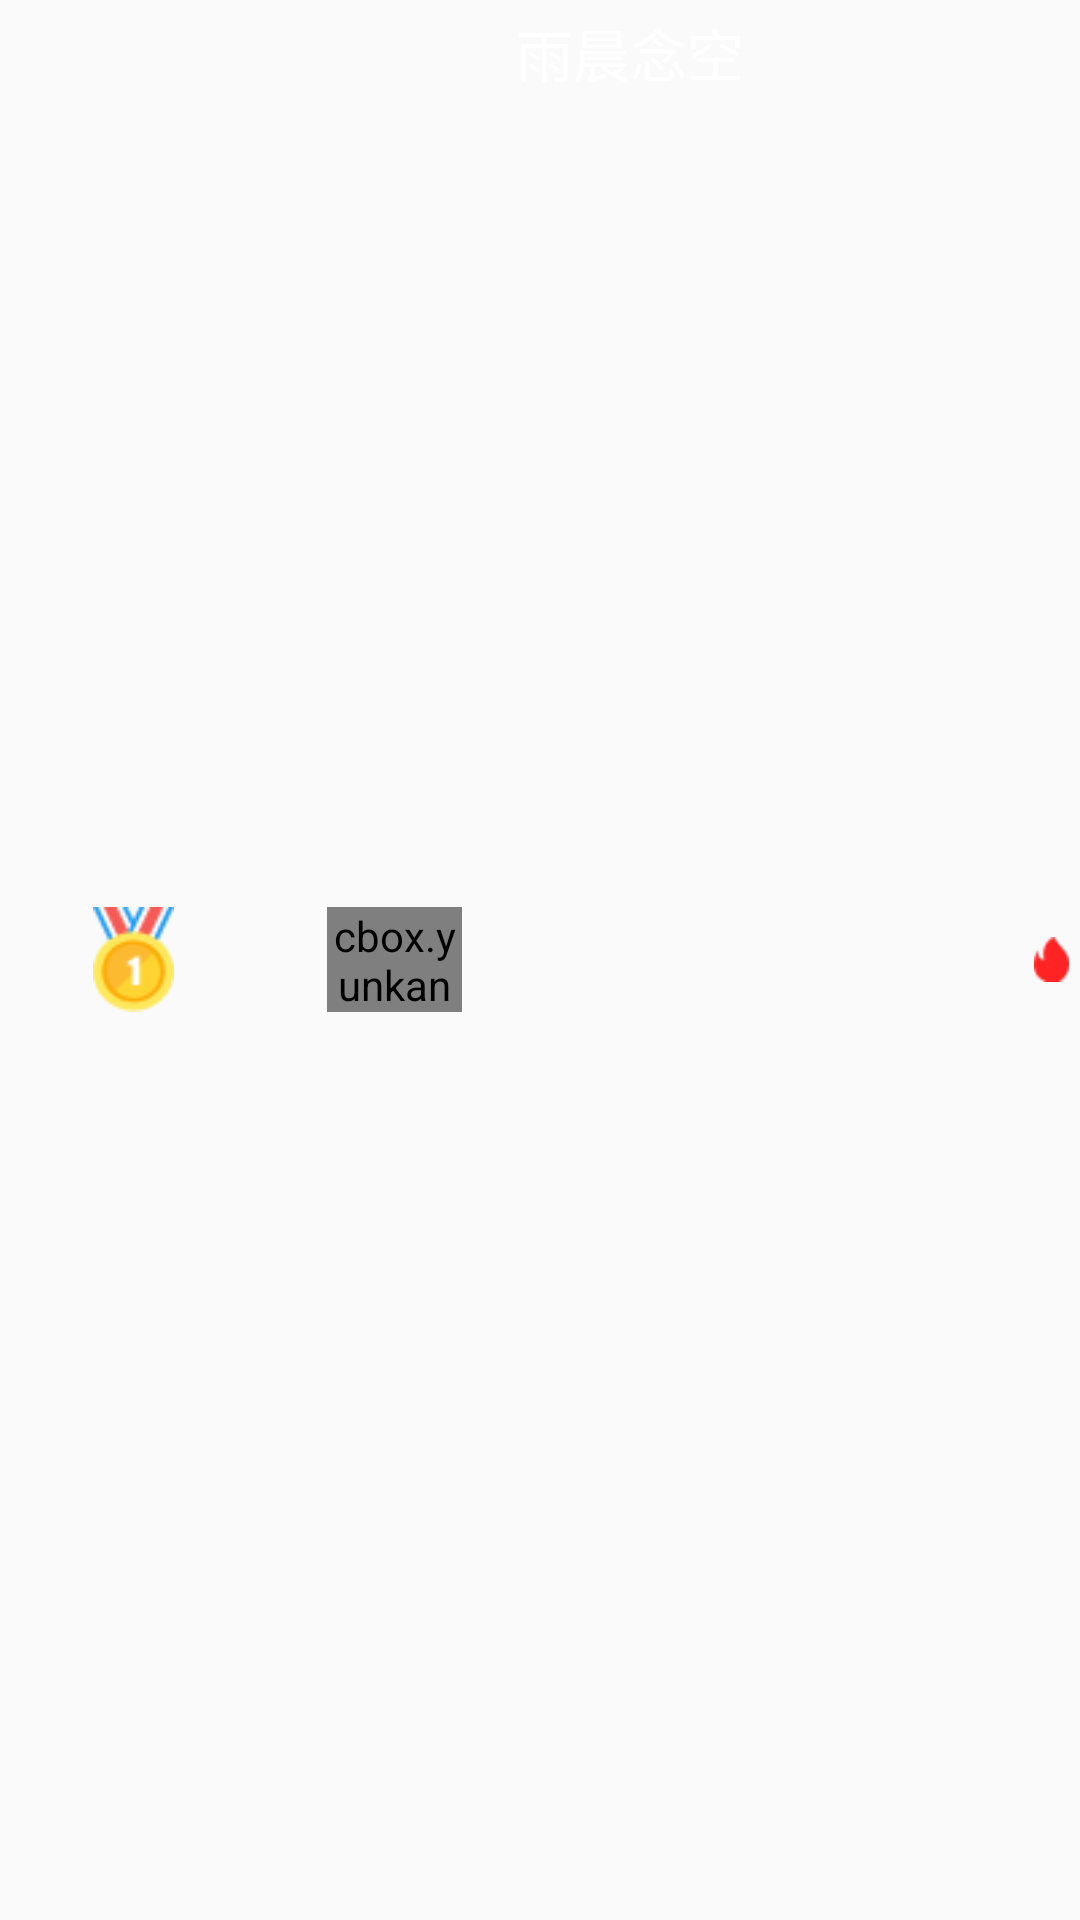

Icons on this 1080w x 1920h Android screen, each with the point to tap as (x=x, y=y):
ranking one: (x=133, y=959)
